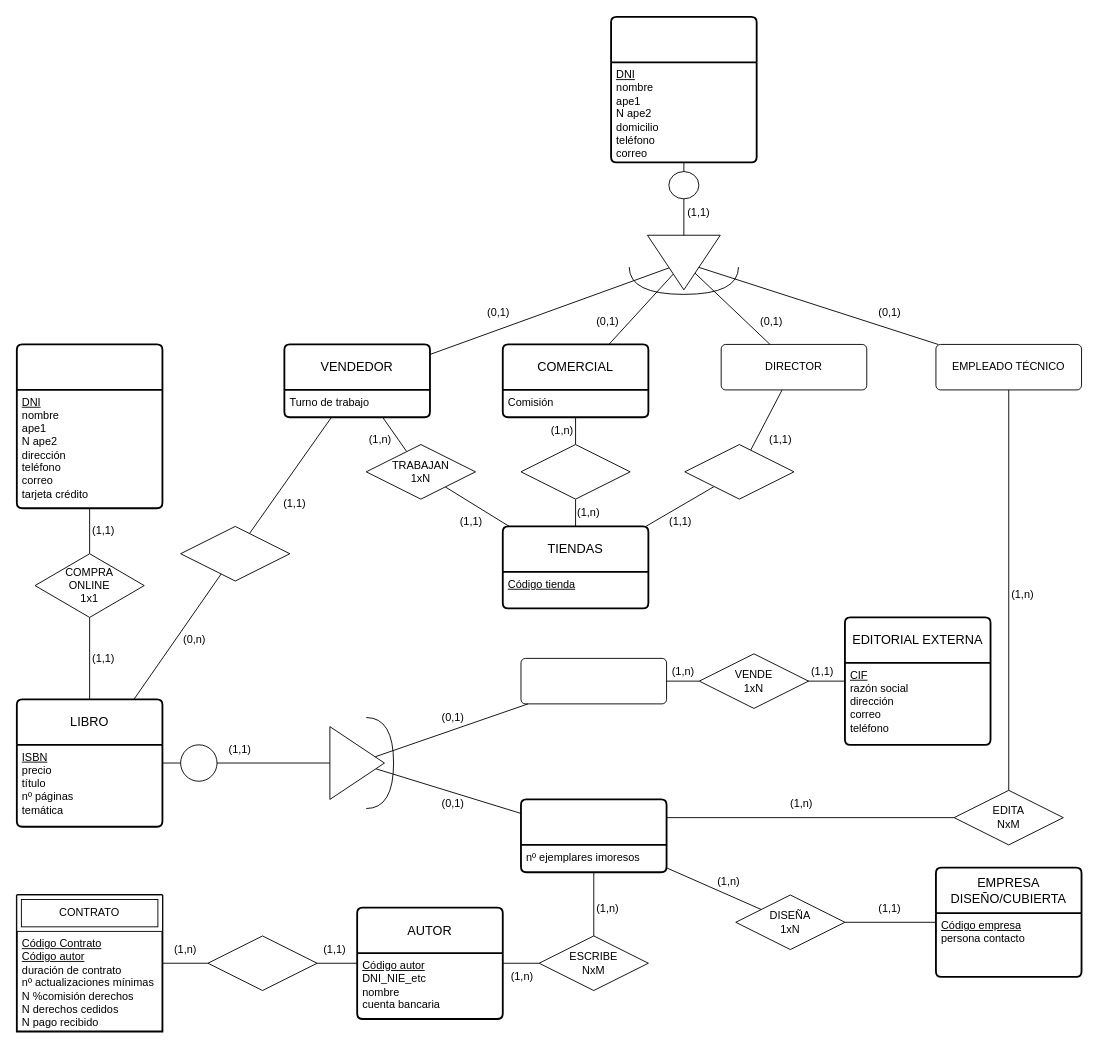
The diagram is 1097 pixels wide and 1047 high, and some of its shapes have lost their labels. The shapes that lost their labels are listed below. From the top down, each one's box as (x1, y1, x2, y2) in pixels, then its label:
(610, 15, 757, 163): EMPLEADOS
(15, 343, 163, 509): CLIENTE
(520, 444, 630, 499): TRABAJAN NxM
(684, 444, 794, 499): DIRIGE 1x1
(180, 526, 290, 581): VENTA 1xN
(520, 657, 667, 704): LIBRO COMPRADO
(520, 798, 667, 873): LIBRO EDITADO
(207, 935, 317, 991): TIENE 1xN
